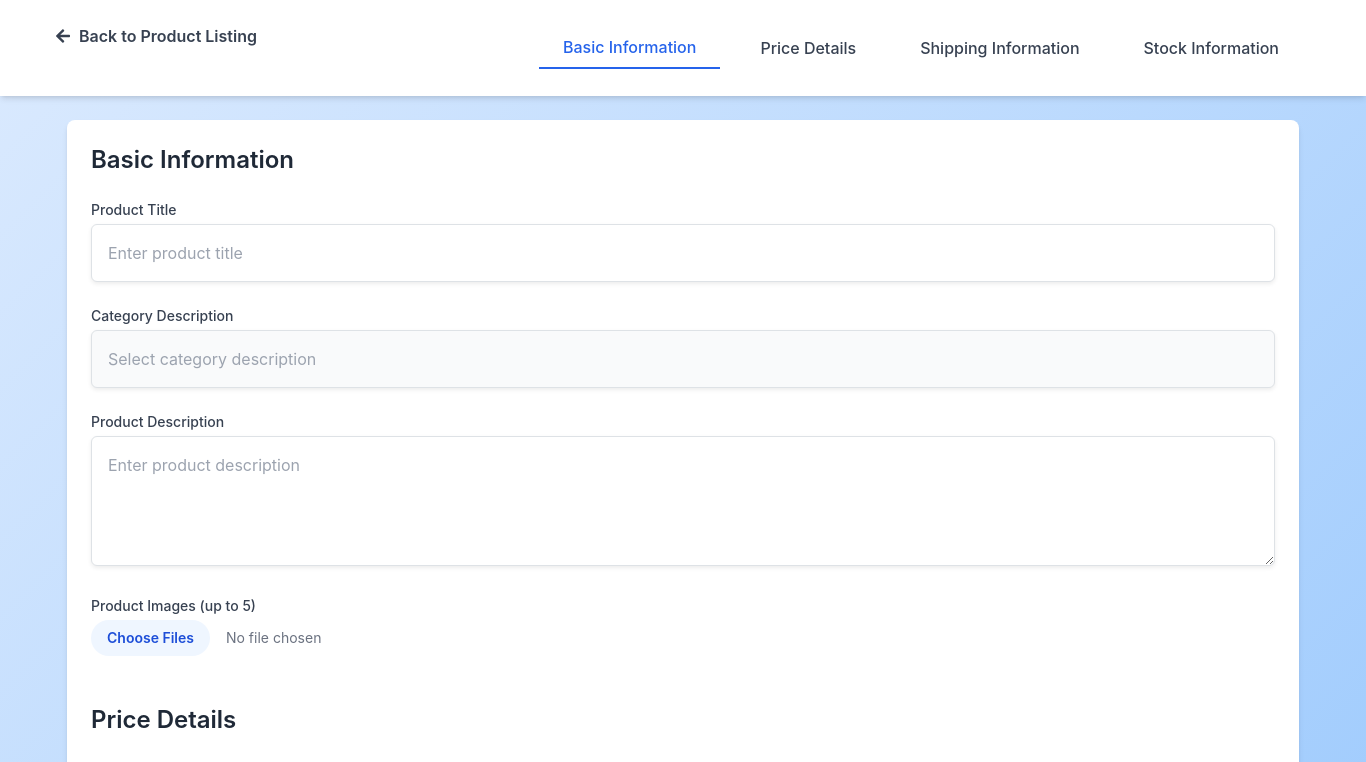
Test case: CreateProduct Component › fills out form, opens confirmation popup, and cancels
// Fill out some fields
Type "New Awesome Product" into the field labelled "Product Title".
click(683, 253); type("New Awesome Product")  # box [91,224,1275,282]
(page scrolled)
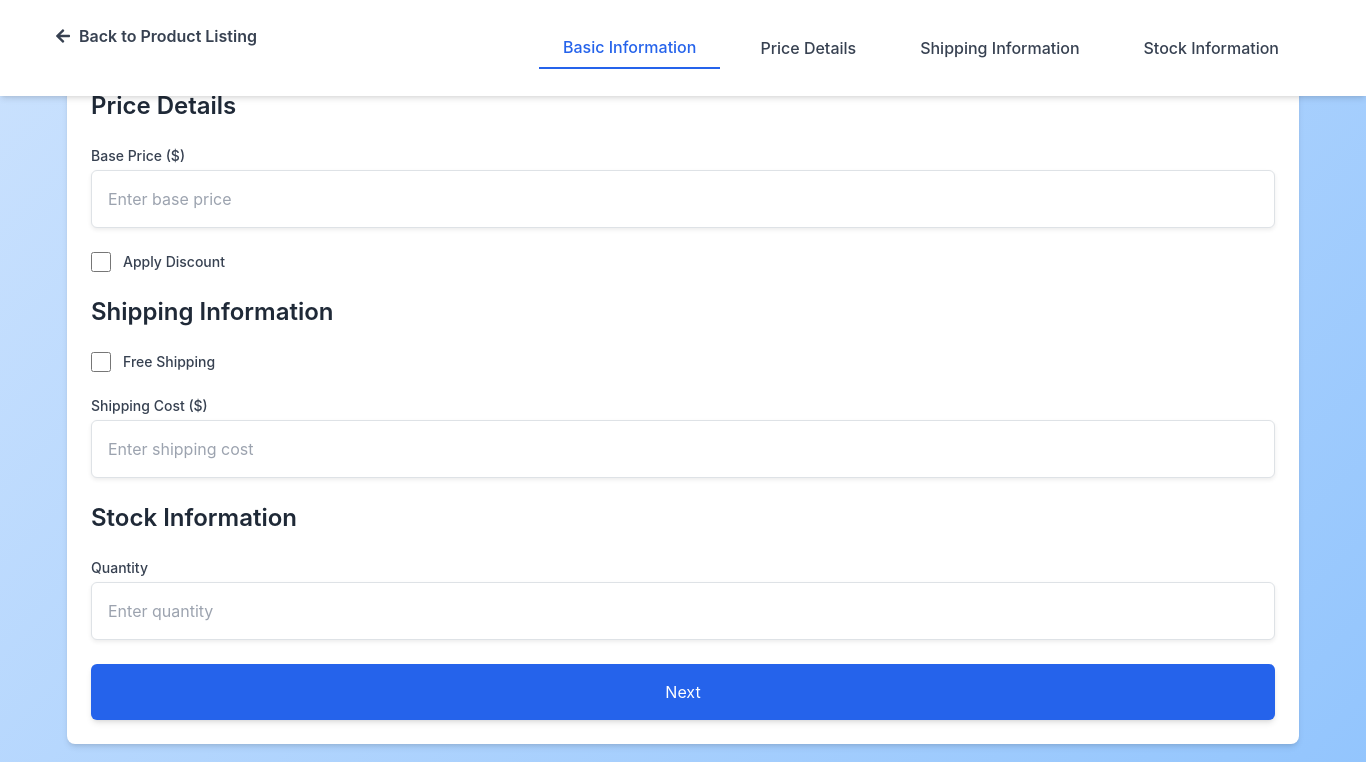
// Click "Next"
Click the button "Next".
click(683, 692)  # box [91,664,1275,720]
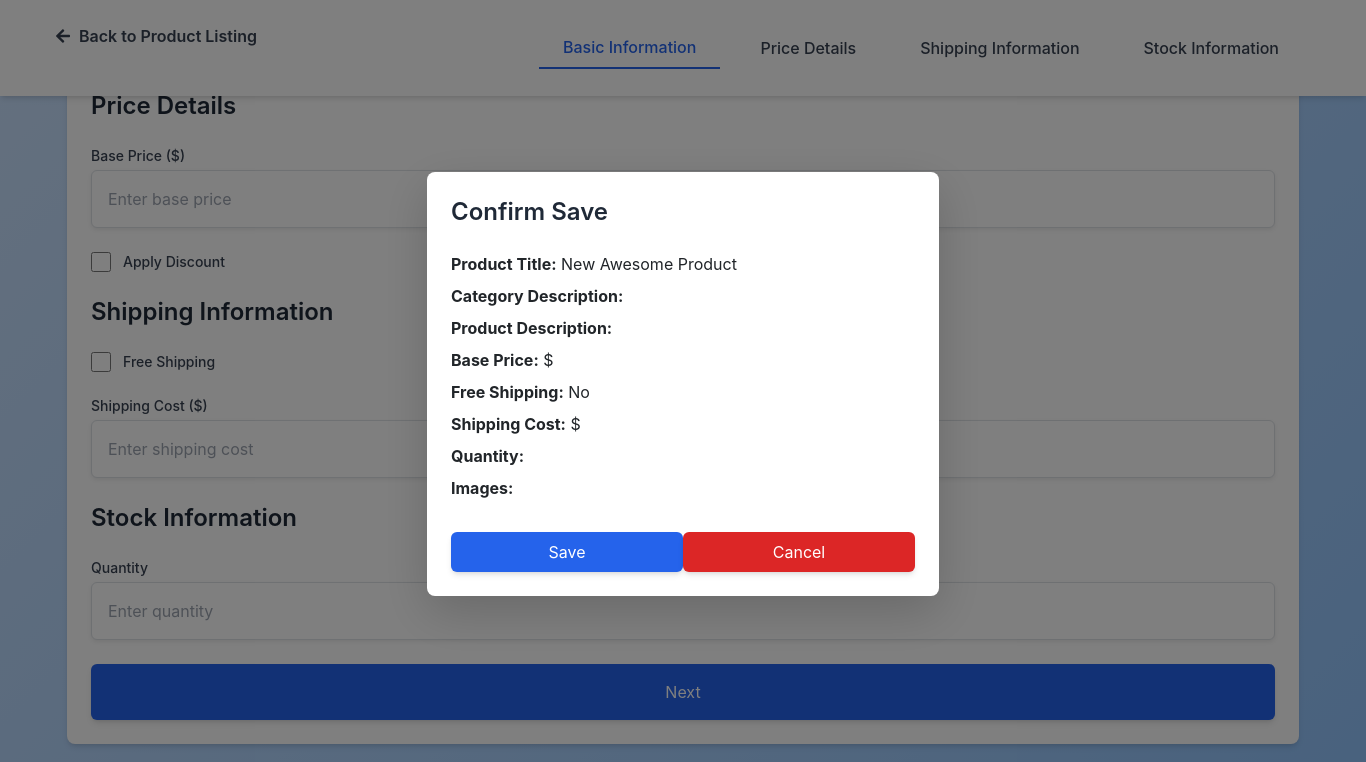
expect the heading "Confirm Save" is shown: met, box [451,197,608,226]
// Click "Cancel"
Click the button "Cancel".
click(799, 552)  # box [683,532,915,572]
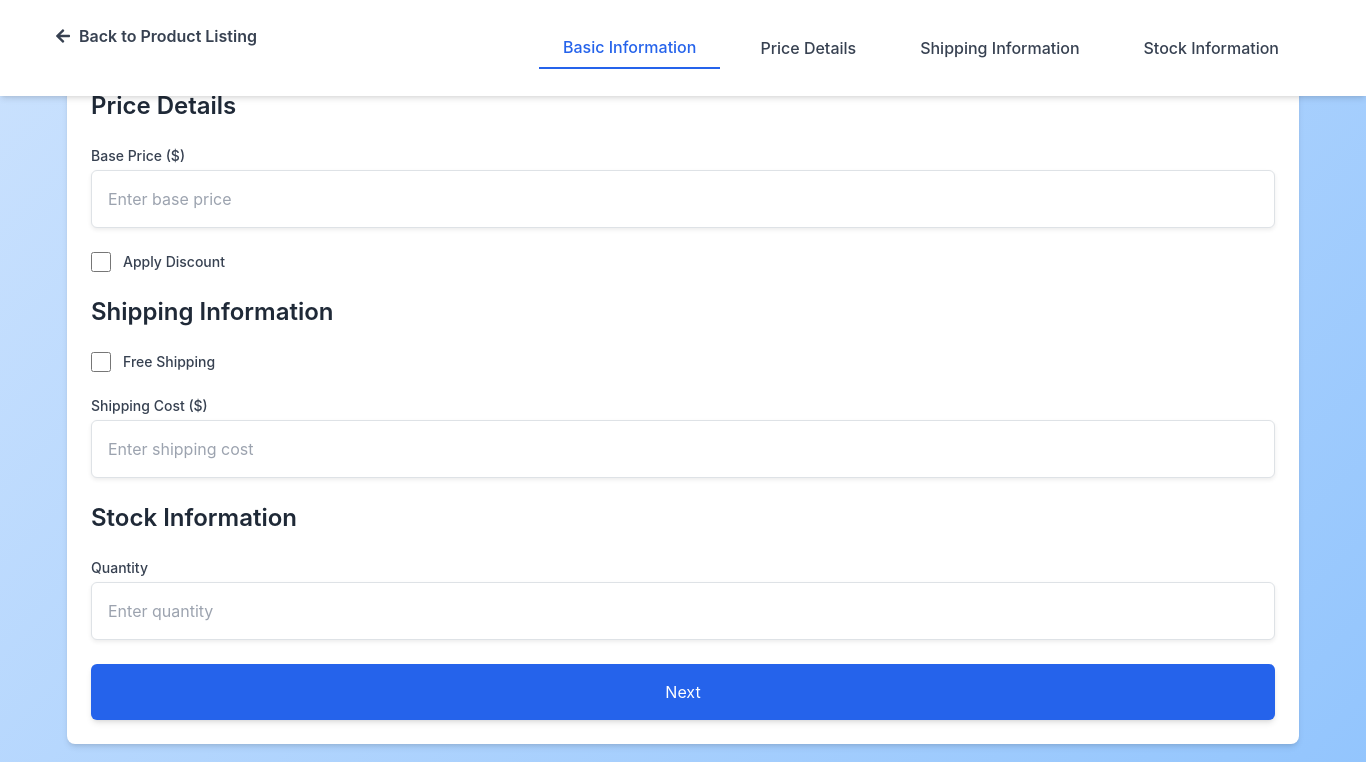
expect the heading "Confirm Save" is gone: met
